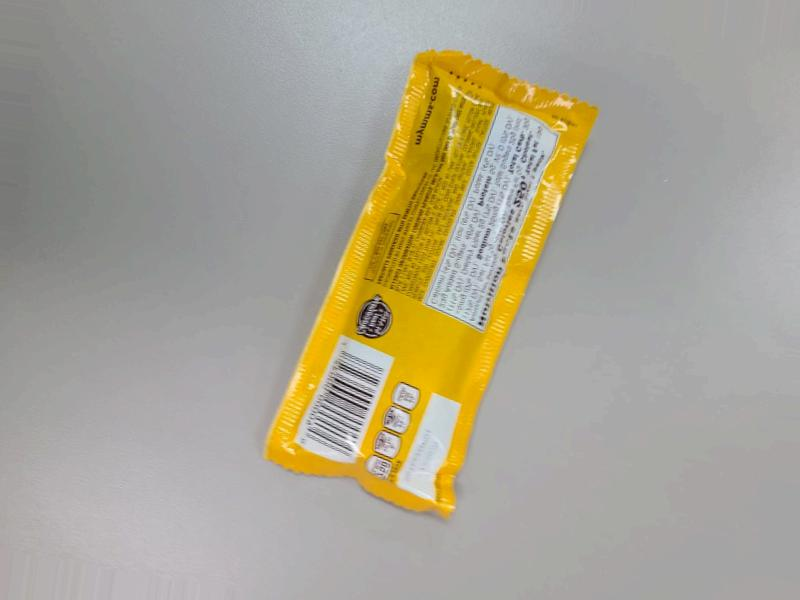m&m: (317, 44, 581, 509)
